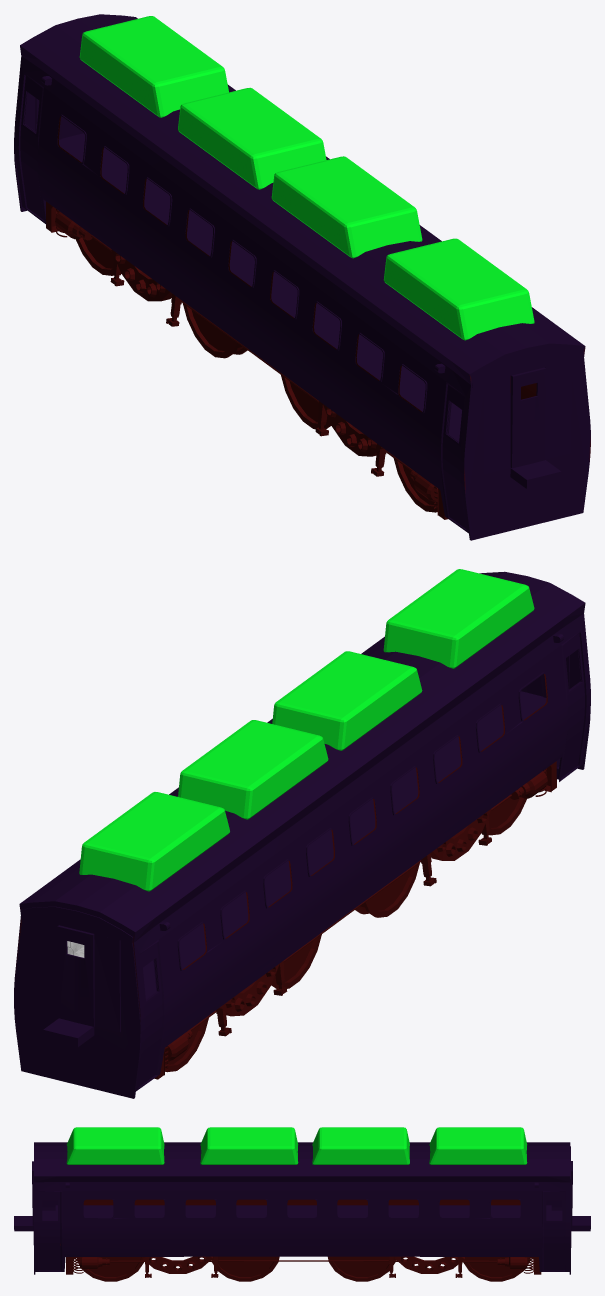
The model's file is TrainChildFFF.fbx.
3 views of the same model, one above another, from view 1: azimuth 30°, elevation 25°; view 2: azimuth 150°, elevation 25°; view 3: azimuth 270°, elevation 25° (orthographic). The views are drawn at different scales.
Visible parts, largest first — view 1: F1, InChild, F2, B2, B; view 2: F1, InChild, F2, B2, B; view 3: B, InChild, B2, F2, F1.
Part boxes in pixels (box(x1,y1,x2,y2)): F1: box(14, 18, 527, 534); InChild: box(14, 92, 589, 540); F2: box(79, 24, 499, 340); B2: box(118, 16, 534, 327); B: box(78, 14, 590, 507); F1: box(77, 576, 590, 1091); InChild: box(14, 650, 590, 1098); F2: box(114, 577, 534, 891); B2: box(79, 569, 492, 878); B: box(14, 571, 527, 992); B: box(34, 1152, 570, 1271); InChild: box(14, 1146, 590, 1281); B2: box(66, 1137, 527, 1164); F2: box(66, 1127, 527, 1151); F1: box(34, 1142, 570, 1210).
Bounding box in the file's own units: 60.27 × 100 × 397.
Materials: 15 (12 with a texture image).
